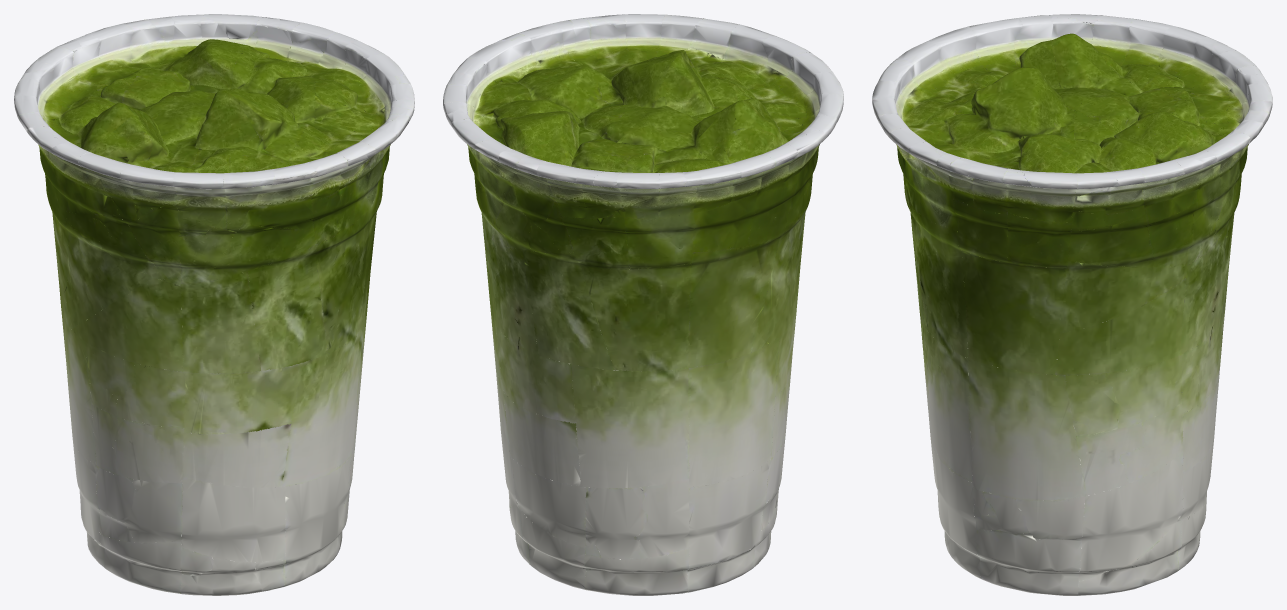
Rendered from matcha-phone.glb.
3 views of the same model, side by side, from view 1: azimuth 30°, elevation 25°; view 2: azimuth 150°, elevation 25°; view 3: azimuth 270°, elevation 25° (orthographic).
Parts seen in each view (by area): view 1: Mesh_0; view 2: Mesh_0; view 3: Mesh_0.
Part boxes in pixels (bbox=[...]): Mesh_0: bbox=[14, 14, 414, 595]; Mesh_0: bbox=[443, 14, 843, 595]; Mesh_0: bbox=[872, 14, 1272, 595].
Size of the model in its own units: 0.7726 by 0.9999 by 0.7708.
Materials: 1 (1 with a texture image).
